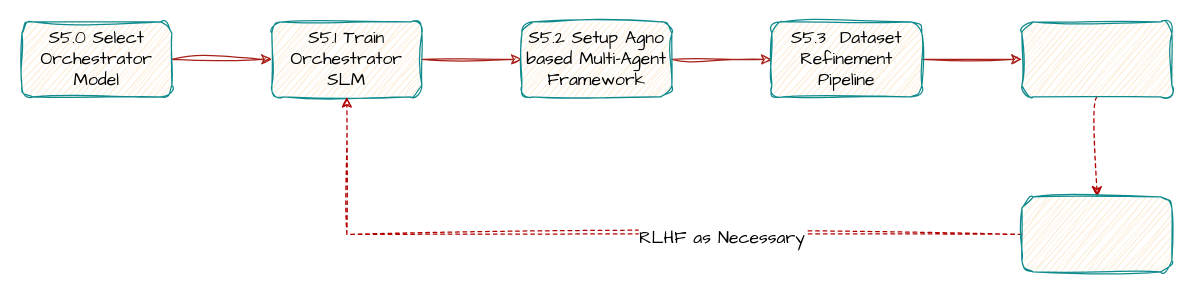
The diagram is 1194 pixels wide and 299 high, and some of its shapes have lost their labels. Each missing label, with the centre of its shape:
Monitor with detailed data based on Discovery Model: pixel 1096 234
S5.4 Deploy System: pixel 1096 59
